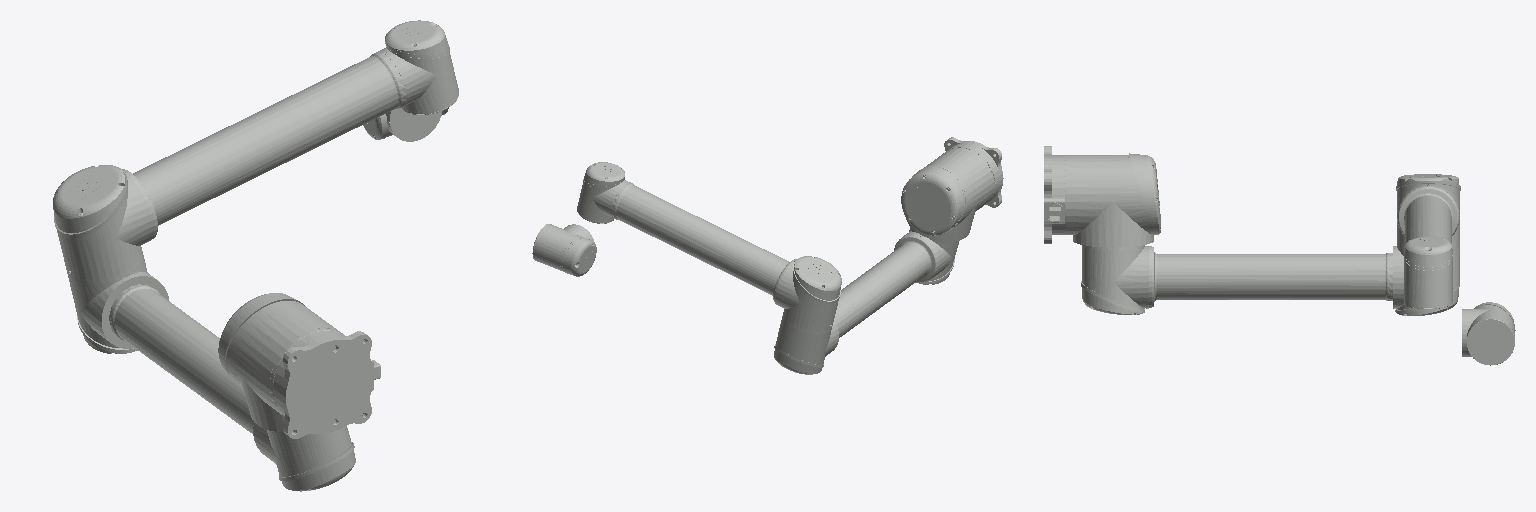
URDF robot description (real_urdf):
<?xml version="1.0" encoding="utf-8"?>
<!-- This URDF was automatically created by SolidWorks to URDF Exporter! Originally created by [author] ([email redacted]) 
     Commit Version: 1.6.0-4-g7f85cfe  Build Version: 1.6.7995.38578
     For more information, please see http://wiki.ros.org/sw_urdf_exporter -->
<robot
  name="real_urdf">
  <link
    name="base_link">
    <inertial>
      <origin
        xyz="0.00047472 0.018436 -6.9315E-06"
        rpy="0 0 0" />
      <mass
        value="0.70951" />
      <inertia
        ixx="0.0011478"
        ixy="-2.9441E-07"
        ixz="4.6822E-08"
        iyy="0.0021505"
        iyz="-7.868E-08"
        izz="0.0011755" />
    </inertial>
    <visual>
      <origin
        xyz="0 0 0"
        rpy="0 0 0" />
      <geometry>
        <mesh
          filename="package://real_urdf/meshes/base_link.STL" />
      </geometry>
      <material
        name="">
        <color
          rgba="0.75686 0.76863 0.75294 1" />
      </material>
    </visual>
    <collision>
      <origin
        xyz="0 0 0"
        rpy="0 0 0" />
      <geometry>
        <mesh
          filename="package://real_urdf/meshes/base_link.STL" />
      </geometry>
    </collision>
  </link>
  <link
    name="Link_1">
    <inertial>
      <origin
        xyz="0.0023542 0.12447 -0.0085726"
        rpy="0 0 0" />
      <mass
        value="3.4311" />
      <inertia
        ixx="0.011117"
        ixy="-0.0002995"
        ixz="0.0001688"
        iyy="0.010872"
        iyz="0.0010909"
        izz="0.010549" />
    </inertial>
    <visual>
      <origin
        xyz="0 0 0"
        rpy="0 0 0" />
      <geometry>
        <mesh
          filename="package://real_urdf/meshes/Link_1.STL" />
      </geometry>
      <material
        name="">
        <color
          rgba="0.75686 0.76863 0.75294 1" />
      </material>
    </visual>
    <collision>
      <origin
        xyz="0 0 0"
        rpy="0 0 0" />
      <geometry>
        <mesh
          filename="package://real_urdf/meshes/Link_1.STL" />
      </geometry>
    </collision>
  </link>
  <joint
    name="Joint_1"
    type="revolute">
    <origin
      xyz="0 0 0"
      rpy="0 0 0" />
    <parent
      link="base_link" />
    <child
      link="Link_1" />
    <axis
      xyz="0 1 0" />
    <limit
      lower="0"
      upper="3.142"
      effort="300"
      velocity="3" />
  </joint>
  <link
    name="Link_2">
    <inertial>
      <origin
        xyz="-2.6374E-05 0.2068 0.14946"
        rpy="0 0 0" />
      <mass
        value="5.766" />
      <inertia
        ixx="0.053593"
        ixy="1.3385E-05"
        ixz="4.9362E-06"
        iyy="0.0077952"
        iyz="-2.3286E-07"
        izz="0.053877" />
    </inertial>
    <visual>
      <origin
        xyz="0 0 0"
        rpy="0 0 0" />
      <geometry>
        <mesh
          filename="package://real_urdf/meshes/Link_2.STL" />
      </geometry>
      <material
        name="">
        <color
          rgba="0.75686 0.76863 0.75294 1" />
      </material>
    </visual>
    <collision>
      <origin
        xyz="0 0 0"
        rpy="0 0 0" />
      <geometry>
        <mesh
          filename="package://real_urdf/meshes/Link_2.STL" />
      </geometry>
    </collision>
  </link>
  <joint
    name="Joint_2"
    type="revolute">
    <origin
      xyz="0.00081755 0.21171 -0.002978"
      rpy="-3.1416 0.26793 3.1416" />
    <parent
      link="Link_1" />
    <child
      link="Link_2" />
    <axis
      xyz="0 0 1" />
    <limit
      lower="-1.57"
      upper="1.57"
      effort="200"
      velocity="3" />
  </joint>
  <link
    name="Link_3">
    <inertial>
      <origin
        xyz="0.24626 0.00038792 -0.064902"
        rpy="0 0 0" />
      <mass
        value="4.9784" />
      <inertia
        ixx="0.0058504"
        ixy="6.6369E-09"
        ixz="-0.00020001"
        iyy="0.051562"
        iyz="-1.5261E-08"
        izz="0.051782" />
    </inertial>
    <visual>
      <origin
        xyz="0 0 0"
        rpy="0 0 0" />
      <geometry>
        <mesh
          filename="package://real_urdf/meshes/Link_3.STL" />
      </geometry>
      <material
        name="">
        <color
          rgba="0.75686 0.76863 0.75294 1" />
      </material>
    </visual>
    <collision>
      <origin
        xyz="0 0 0"
        rpy="0 0 0" />
      <geometry>
        <mesh
          filename="package://real_urdf/meshes/Link_3.STL" />
      </geometry>
    </collision>
  </link>
  <joint
    name="Joint_3"
    type="revolute">
    <origin
      xyz="-0.013053 0.4998 -0.04121"
      rpy="-3.1416 -0.034793 3.1416" />
    <parent
      link="Link_2" />
    <child
      link="Link_3" />
    <axis
      xyz="0 0 -1" />
    <limit
      lower="-1.57"
      upper="1.57"
      effort="200"
      velocity="3" />
  </joint>
  <link
    name="Link_4">
    <inertial>
      <origin
        xyz="0.038757 0.0032123 -0.16106"
        rpy="0 0 0" />
      <mass
        value="0.83842" />
      <inertia
        ixx="0.0010339"
        ixy="-3.0338E-05"
        ixz="1.6348E-05"
        iyy="0.0009644"
        iyz="0.00012774"
        izz="0.00096895" />
    </inertial>
    <visual>
      <origin
        xyz="0 0 0"
        rpy="0 0 0" />
      <geometry>
        <mesh
          filename="package://real_urdf/meshes/Link_4.STL" />
      </geometry>
      <material
        name="">
        <color
          rgba="0.75686 0.76863 0.75294 1" />
      </material>
    </visual>
    <collision>
      <origin
        xyz="0 0 0"
        rpy="0 0 0" />
      <geometry>
        <mesh
          filename="package://real_urdf/meshes/Link_4.STL" />
      </geometry>
    </collision>
  </link>
  <joint
    name="Joint_4"
    type="continuous">
    <origin
      xyz="0.56474 0.000388 -0.0090716"
      rpy="0 0.23313 0" />
    <parent
      link="Link_3" />
    <child
      link="Link_4" />
    <axis
      xyz="-0.23103 0 0.97295" />
    <limit
      lower="-1.57"
      upper="1.57"
      effort="200"
      velocity="3" />
  </joint>
  <link
    name="Link_5">
    <inertial>
      <origin
        xyz="0.59732 0.82187 -0.004311"
        rpy="0 0 0" />
      <mass
        value="0.83842" />
      <inertia
        ixx="0.00096592"
        ixy="-0.00012992"
        ixz="-1.045E-05"
        iyy="0.00096507"
        iyz="-1.8899E-05"
        izz="0.0010363" />
    </inertial>
    <visual>
      <origin
        xyz="0 0 0"
        rpy="0 0 0" />
      <geometry>
        <mesh
          filename="package://real_urdf/meshes/Link_5.STL" />
      </geometry>
      <material
        name="">
        <color
          rgba="0.75686 0.76863 0.75294 1" />
      </material>
    </visual>
    <collision>
      <origin
        xyz="0 0 0"
        rpy="0 0 0" />
      <geometry>
        <mesh
          filename="package://real_urdf/meshes/Link_5.STL" />
      </geometry>
    </collision>
  </link>
  <joint
    name="Joint_5"
    type="continuous">
    <origin
      xyz="-0.55406 -0.7119 -0.16186"
      rpy="0 0 0" />
    <parent
      link="Link_4" />
    <child
      link="Link_5" />
    <axis
      xyz="0 -1 0" />
    <limit
      lower="-1.57"
      upper="1.57"
      effort="100"
      velocity="2" />
  </joint>
  <link
    name="Link_6">
    <inertial>
      <origin
        xyz="0.00017986 -4.4952E-05 -0.13062"
        rpy="0 0 0" />
      <mass
        value="0.15932" />
      <inertia
        ixx="8.2239E-05"
        ixy="1.0723E-06"
        ixz="8.7279E-08"
        iyy="8.7571E-05"
        iyz="4.5096E-07"
        izz="0.00014976" />
    </inertial>
    <visual>
      <origin
        xyz="0 0 0"
        rpy="0 0 0" />
      <geometry>
        <mesh
          filename="package://real_urdf/meshes/Link_6.STL" />
      </geometry>
      <material
        name="">
        <color
          rgba="0.75686 0.76863 0.75294 1" />
      </material>
    </visual>
    <collision>
      <origin
        xyz="0 0 0"
        rpy="0 0 0" />
      <geometry>
        <mesh
          filename="package://real_urdf/meshes/Link_6.STL" />
      </geometry>
    </collision>
  </link>
  <joint
    name="Joint_6"
    type="continuous">
    <origin
      xyz="0.53884 0.82663 -0.012817"
      rpy="-3.1416 1.4264 0" />
    <parent
      link="Link_5" />
    <child
      link="Link_6" />
    <axis
      xyz="0 0 1" />
    <limit
      lower="0"
      upper="3.142"
      effort="50"
      velocity="2" />
  </joint>
</robot>

--- What the picture shows (computed from the rendered views, not written in the file) ---
3 views of the same robot in one strip: view 1: azimuth 30°, elevation 25°; view 2: azimuth 150°, elevation 25°; view 3: azimuth 270°, elevation 25° (orthographic).
Model real_urdf with 7 links and 6 joints (3 revolute, 3 continuous), rooted at base_link, posed all joints at 0.
Visible links, largest first — view 1: Link_3, Link_2, base_link, Link_1, Link_5; view 2: Link_3, Link_2, Link_1, Link_5, base_link; view 3: Link_2, Link_1, Link_3, Link_5, base_link.
Boxes of the visible links, x1=… form: Link_3: x1=53, y1=20, x2=458, y2=278; Link_2: x1=66, y1=251, x2=355, y2=491; base_link: x1=273, y1=331, x2=380, y2=438; Link_1: x1=218, y1=293, x2=343, y2=431; Link_5: x1=363, y1=108, x2=448, y2=141; Link_3: x1=577, y1=162, x2=841, y2=330; Link_2: x1=774, y1=227, x2=958, y2=374; Link_1: x1=901, y1=147, x2=994, y2=241; Link_5: x1=532, y1=224, x2=596, y2=276; base_link: x1=944, y1=137, x2=1003, y2=207; Link_2: x1=1081, y1=242, x2=1459, y2=315; Link_1: x1=1065, y1=153, x2=1160, y2=247; Link_3: x1=1396, y1=174, x2=1460, y2=308; Link_5: x1=1462, y1=302, x2=1515, y2=365; base_link: x1=1044, y1=146, x2=1064, y2=243.
Bounding box of the posed robot: 0.7373 × 0.8734 × 0.3891 m (x, y, z).
Meshes: 7 distinct files referenced, 5 mesh visuals loaded (5 binary STL); not drawn: 2 (reference not matched to a file when rendering).